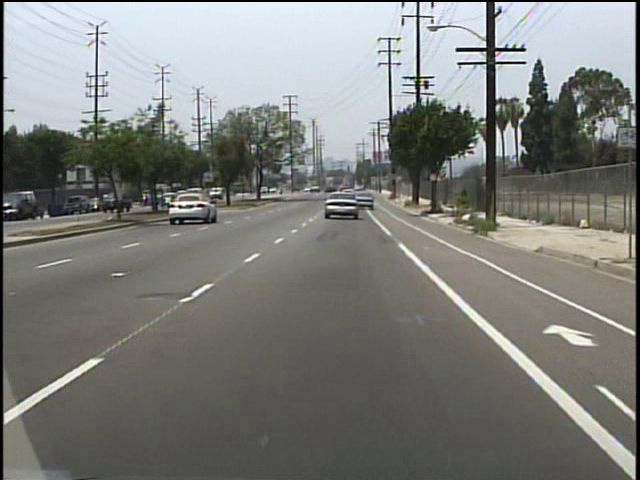person: (103, 192, 112, 211)
